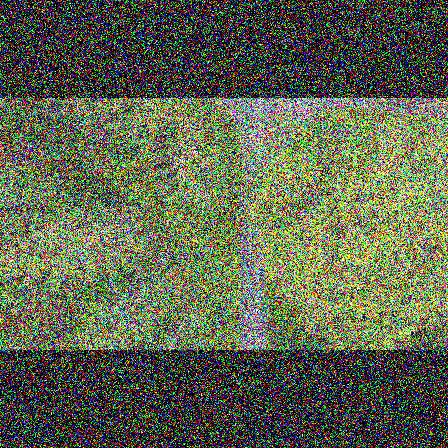Sick: (164, 142, 198, 178)
